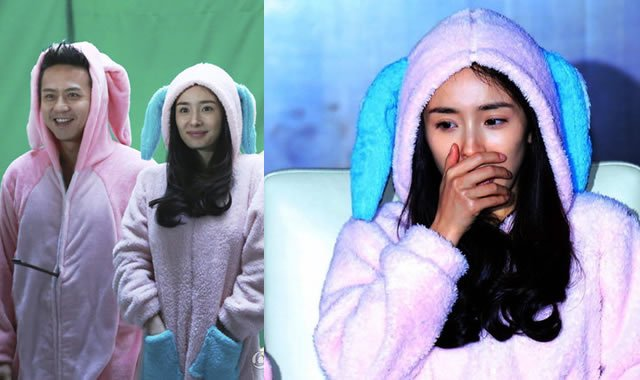face: (425, 71, 528, 195), (39, 66, 91, 136), (177, 87, 219, 149)
